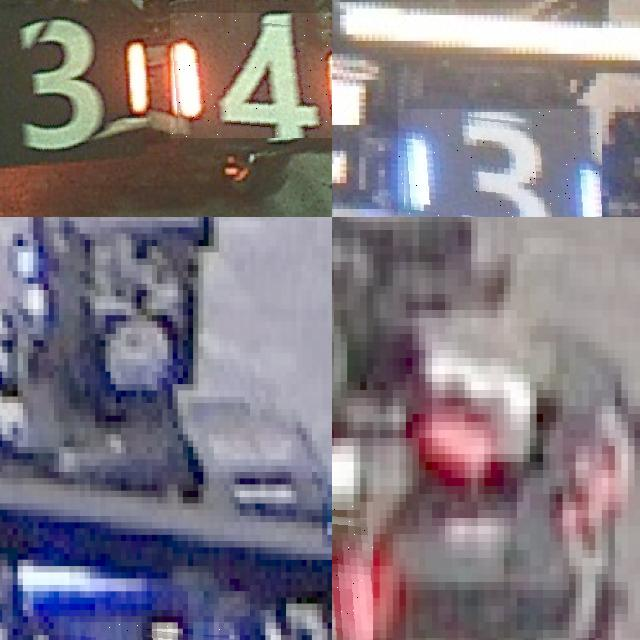B3: (397, 108, 602, 217)
R3: (332, 502, 373, 640)
R4: (170, 12, 332, 138)
